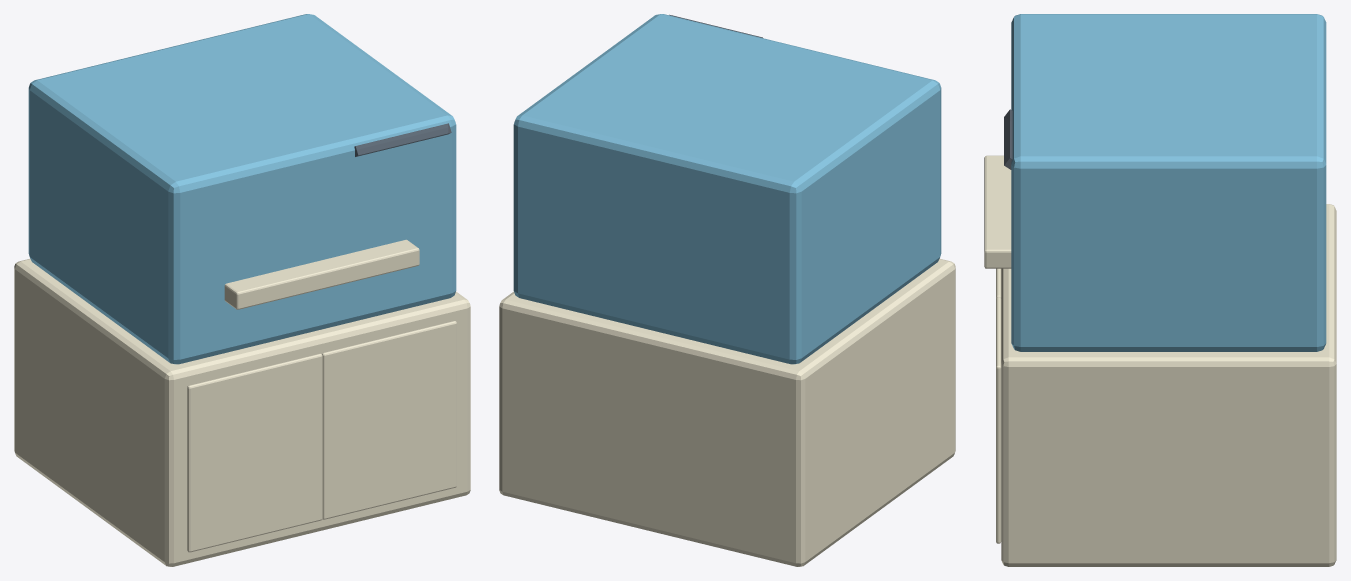
The model's file is print___utility_office_asset_library_60.glb.
3 renders of one model, left to right at view 1: azimuth 30°, elevation 25°; view 2: azimuth 150°, elevation 25°; view 3: azimuth 270°, elevation 25°, orthographic. The views are drawn at different scales.
Visible parts, largest first — view 1: Cube; view 2: Cube; view 3: Cube.
Boxes of the visible parts, x1,y1,x2,y2 form: Cube: (14,14,470,566); Cube: (499,14,955,566); Cube: (984,14,1336,566).
Bounding box in the file's own units: 0.72 × 0.8526 × 0.672.
